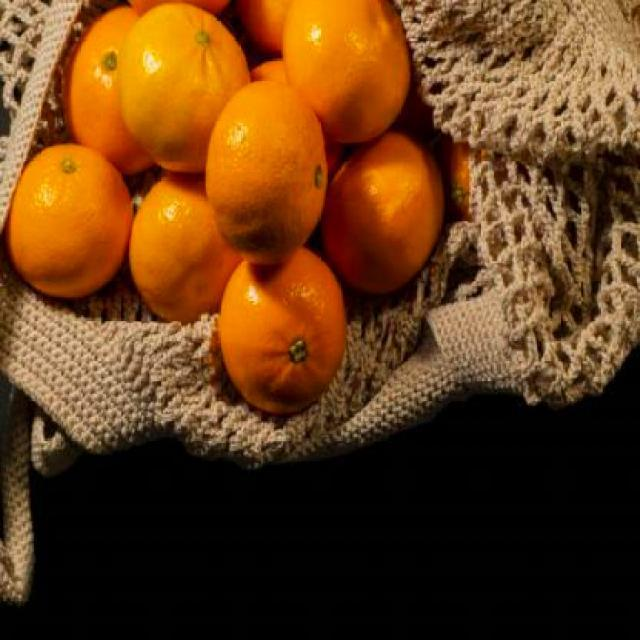Jeruk Sudah Matang: (117, 1, 256, 174), (202, 74, 326, 255), (58, 0, 180, 182), (315, 126, 440, 294), (223, 242, 345, 409), (0, 141, 132, 295), (280, 0, 414, 146), (133, 166, 249, 328)
